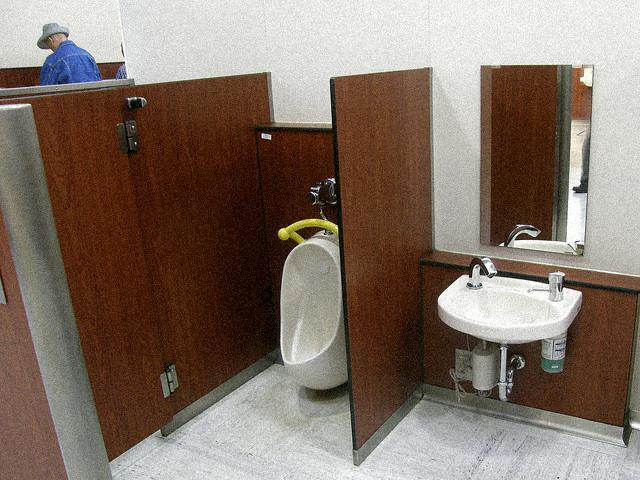Lavamanos: (440, 260, 576, 410)
Sanitario: (249, 186, 406, 399)
